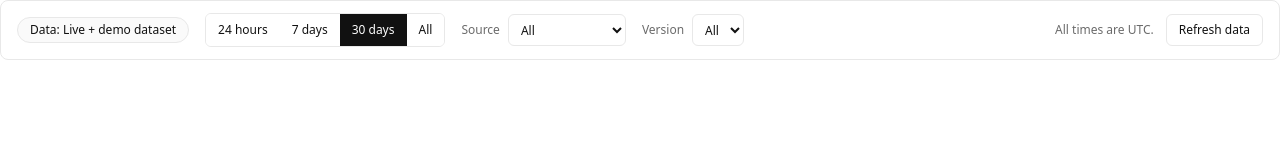
ConsoleControls › refreshes, and disables Refresh while loading
Click the button "Refresh data": x=1214, y=30 [1166,14,1263,46]
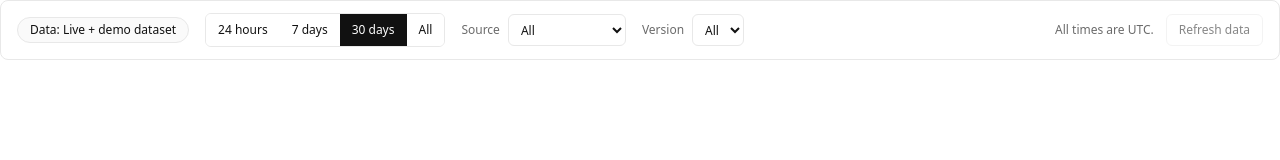
expect the button "Refresh data" is disabled: met, box [1166,14,1263,46]
